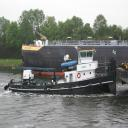tugboat: (5, 45, 119, 100)
